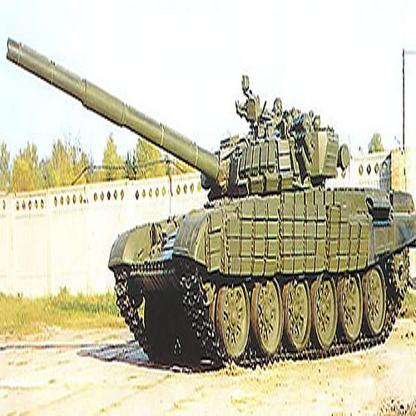Tank: (3, 36, 416, 360)
